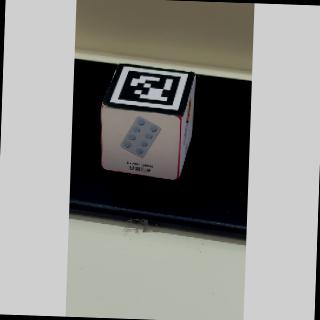Tablet: (98, 102, 182, 181)
